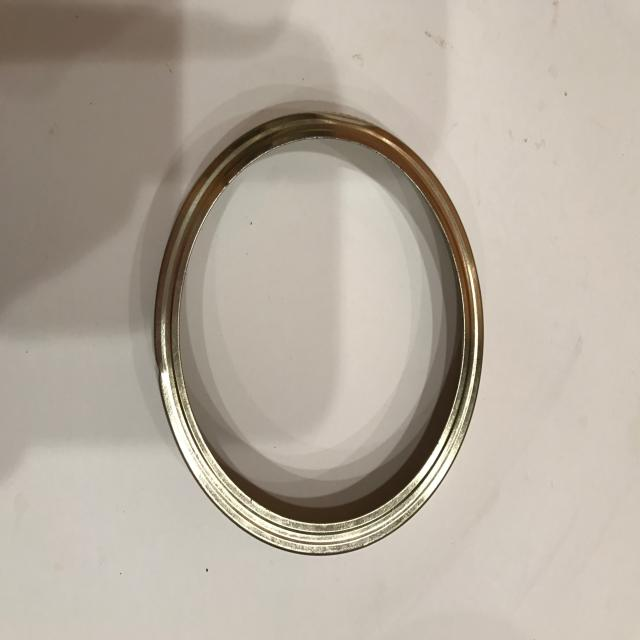metal: (153, 109, 484, 556)
